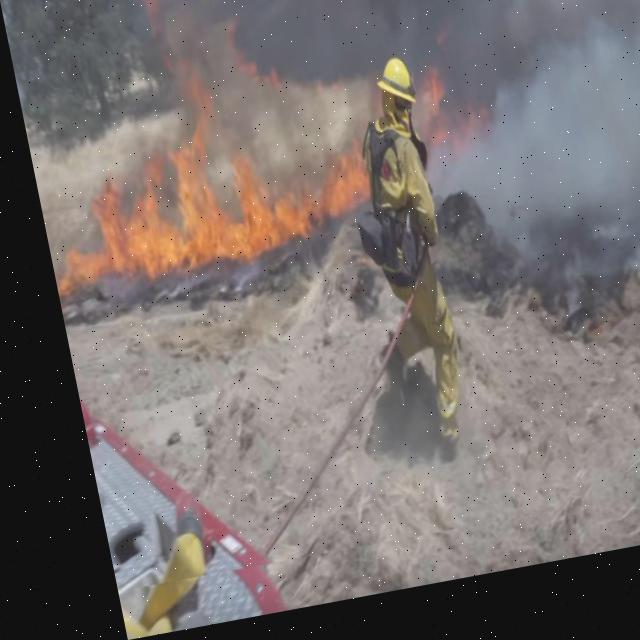Fire: (18, 49, 374, 328), (410, 74, 480, 160), (222, 26, 278, 107)
